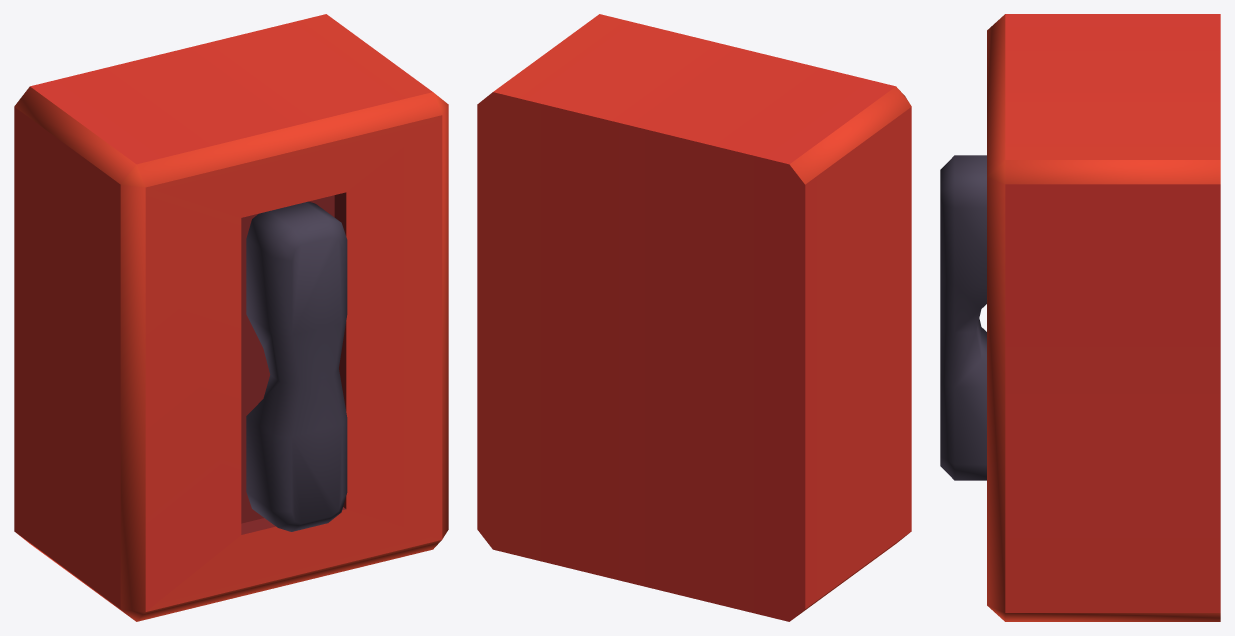
File: phonebox.fbx
3 renders of one model, left to right at view 1: azimuth 30°, elevation 25°; view 2: azimuth 150°, elevation 25°; view 3: azimuth 270°, elevation 25°, orthographic.
Parts seen in each view (by area): view 1: Phone; view 2: Phone; view 3: Phone.
Boxes of the visible parts, x1=… form: Phone: x1=14, y1=14, x2=448, y2=621; Phone: x1=477, y1=14, x2=911, y2=621; Phone: x1=940, y1=14, x2=1220, y2=621.
Size of the model in its own units: 43.26 by 57.68 by 31.7.
Materials: 1 (1 with a texture image).
